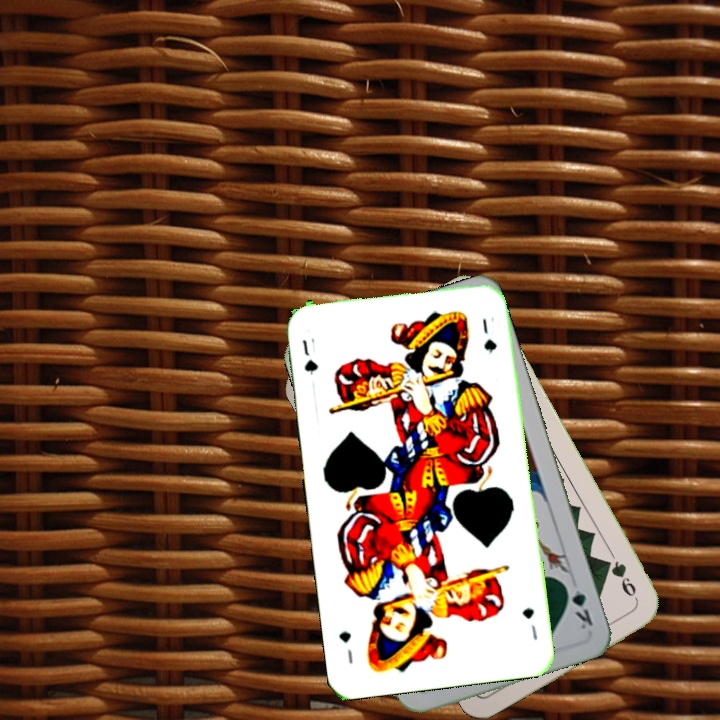G9: (600, 555, 642, 605)
GK: (560, 578, 596, 632)
GU: (298, 336, 320, 377), (518, 603, 540, 642)
